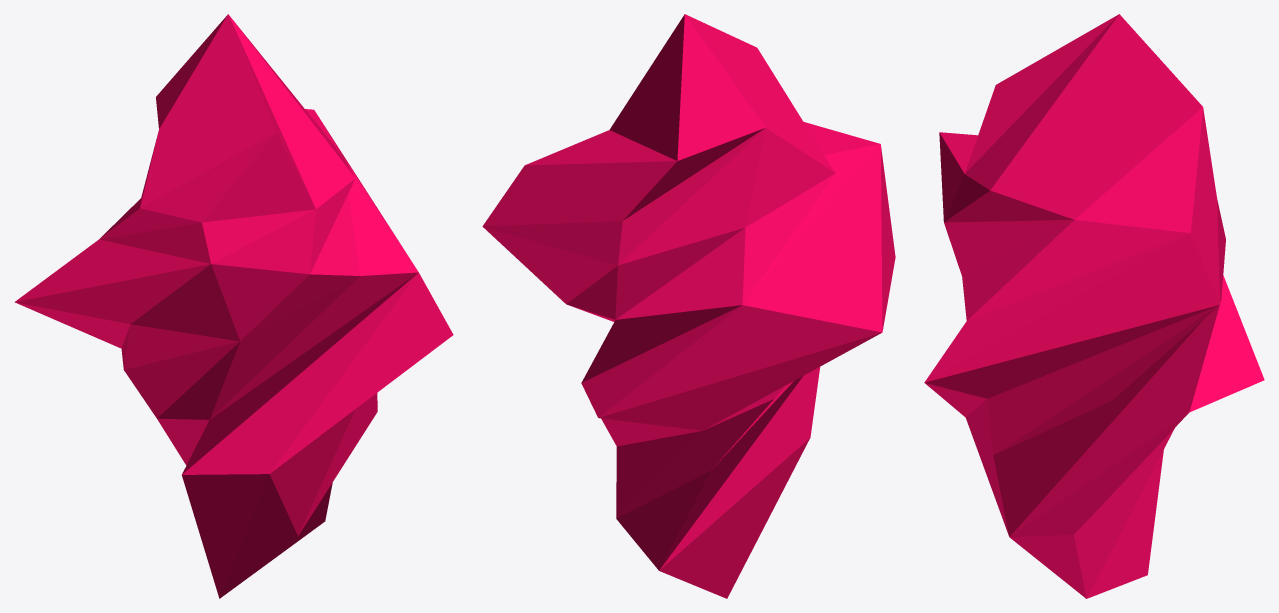
File: Crystal_017.fbx
3 views of the same model, side by side, from view 1: azimuth 30°, elevation 25°; view 2: azimuth 150°, elevation 25°; view 3: azimuth 270°, elevation 25° (orthographic). The views are drawn at different scales.
Visible parts, largest first — view 1: Crystal.017; view 2: Crystal.017; view 3: Crystal.017.
Boxes of the visible parts, box(x1,y1,x2,y2) form: Crystal.017: box(14, 14, 453, 598); Crystal.017: box(482, 14, 895, 598); Crystal.017: box(924, 14, 1264, 598).
Size of the model in its own units: 315 by 490 by 253.
